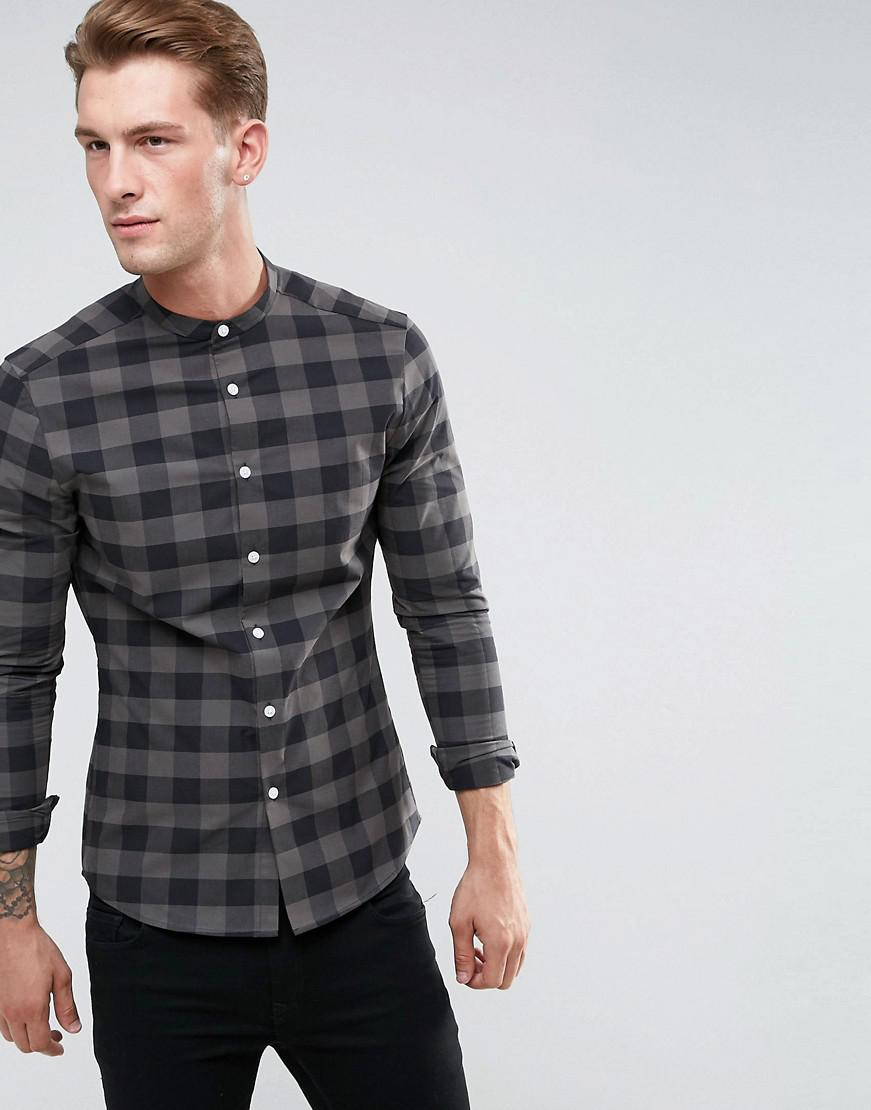teeshirt: (1, 254, 544, 1013)
